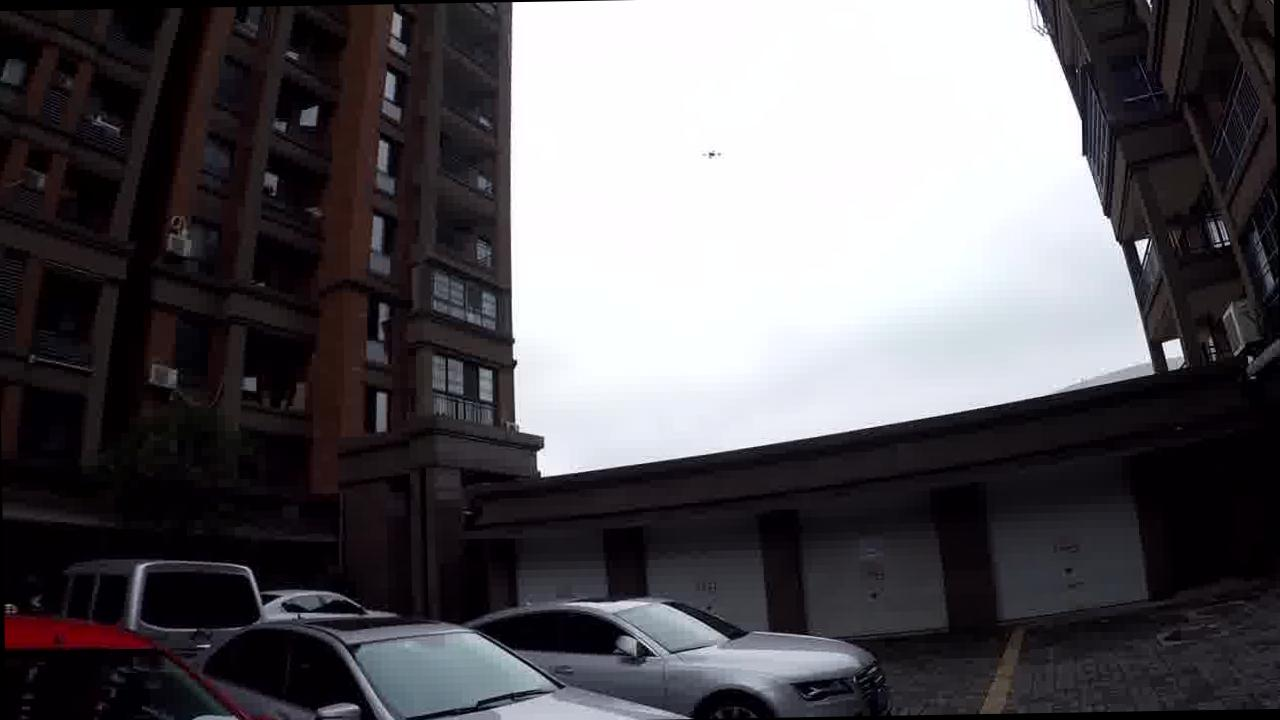drone: (653, 122, 737, 172)
